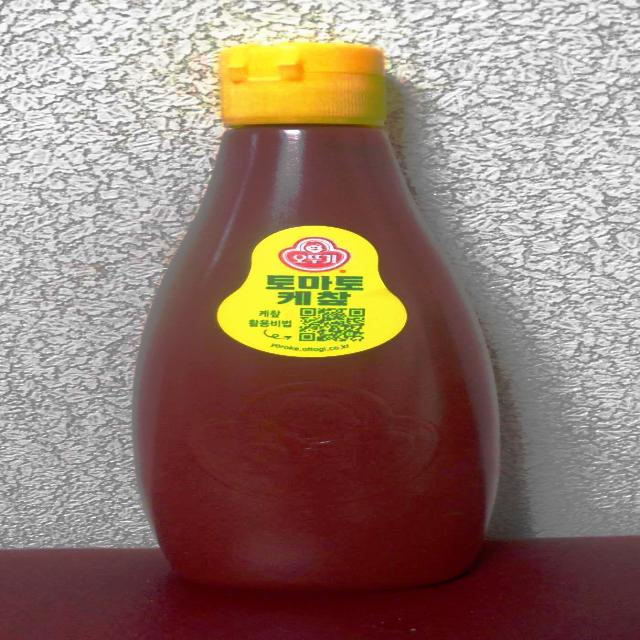ketchup: (131, 40, 508, 594)
